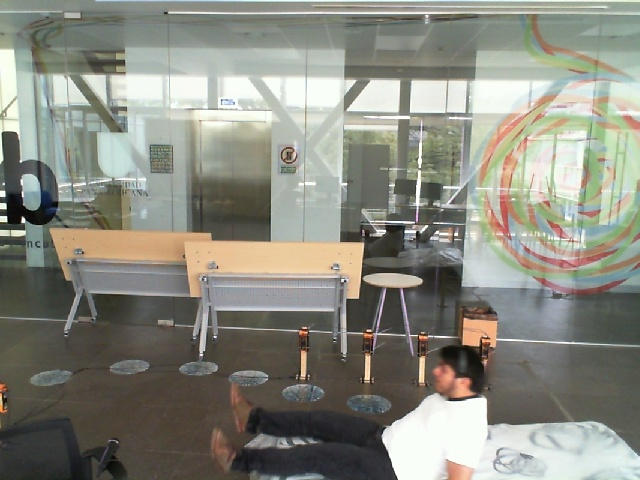fall: (200, 345, 502, 480)
